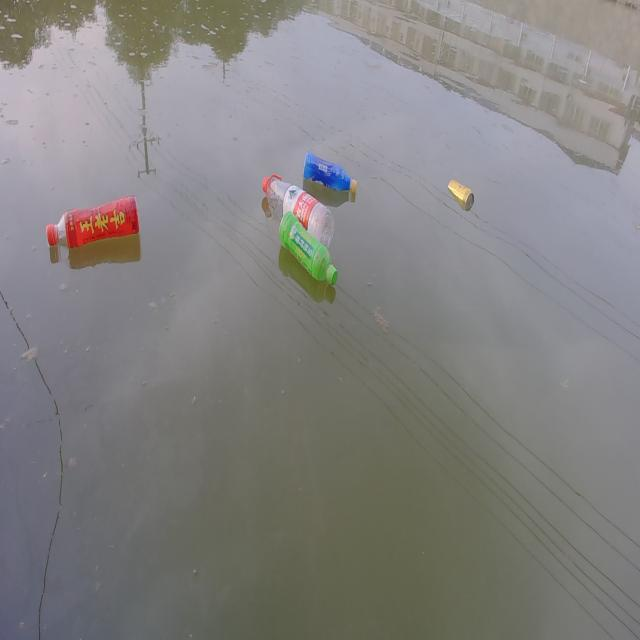garbage: (262, 173, 334, 247), (46, 194, 140, 250), (278, 211, 338, 287), (302, 150, 357, 206)
